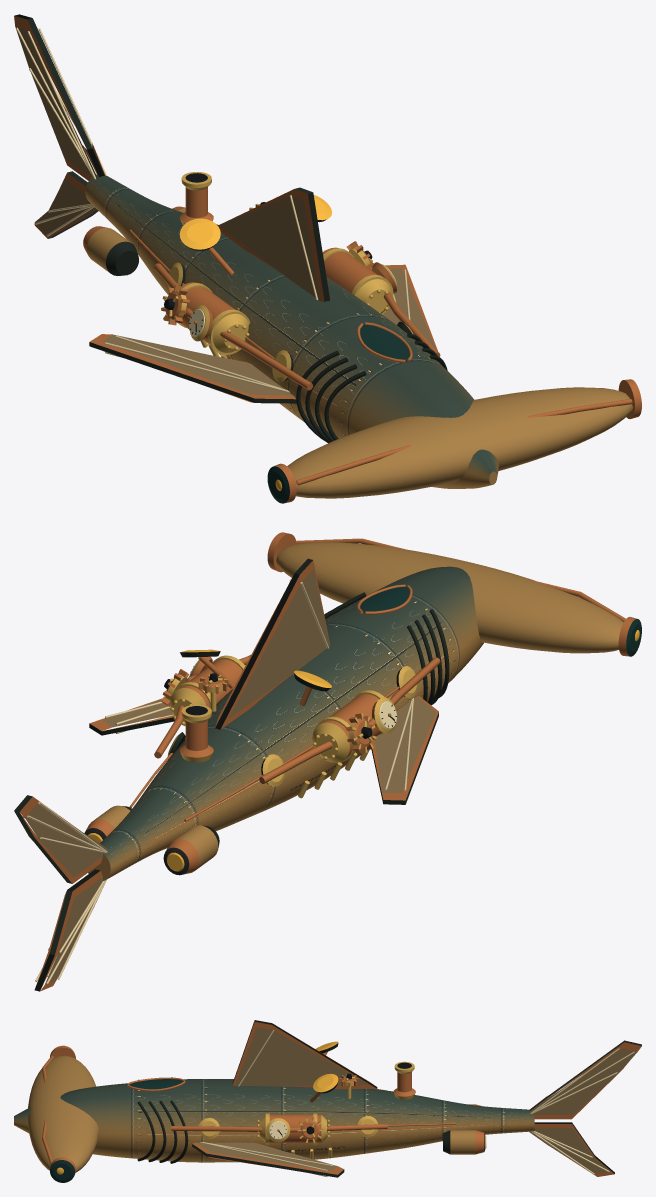
3 renders of one model, top to bottom at view 1: azimuth 30°, elevation 25°; view 2: azimuth 150°, elevation 25°; view 3: azimuth 270°, elevation 25°, orthographic. The views are drawn at different scales.
Visible parts, largest first — view 1: hammerhead_hull; view 2: hammerhead_hull; view 3: hammerhead_hull.
Boxes of the visible parts, <box> form: hammerhead_hull: <box>14,14,641,503</box>; hammerhead_hull: <box>14,532,641,991</box>; hammerhead_hull: <box>14,1020,641,1182</box>.
Size of the model in its own units: 119 by 74.23 by 272.
1 material, 1 textured.
